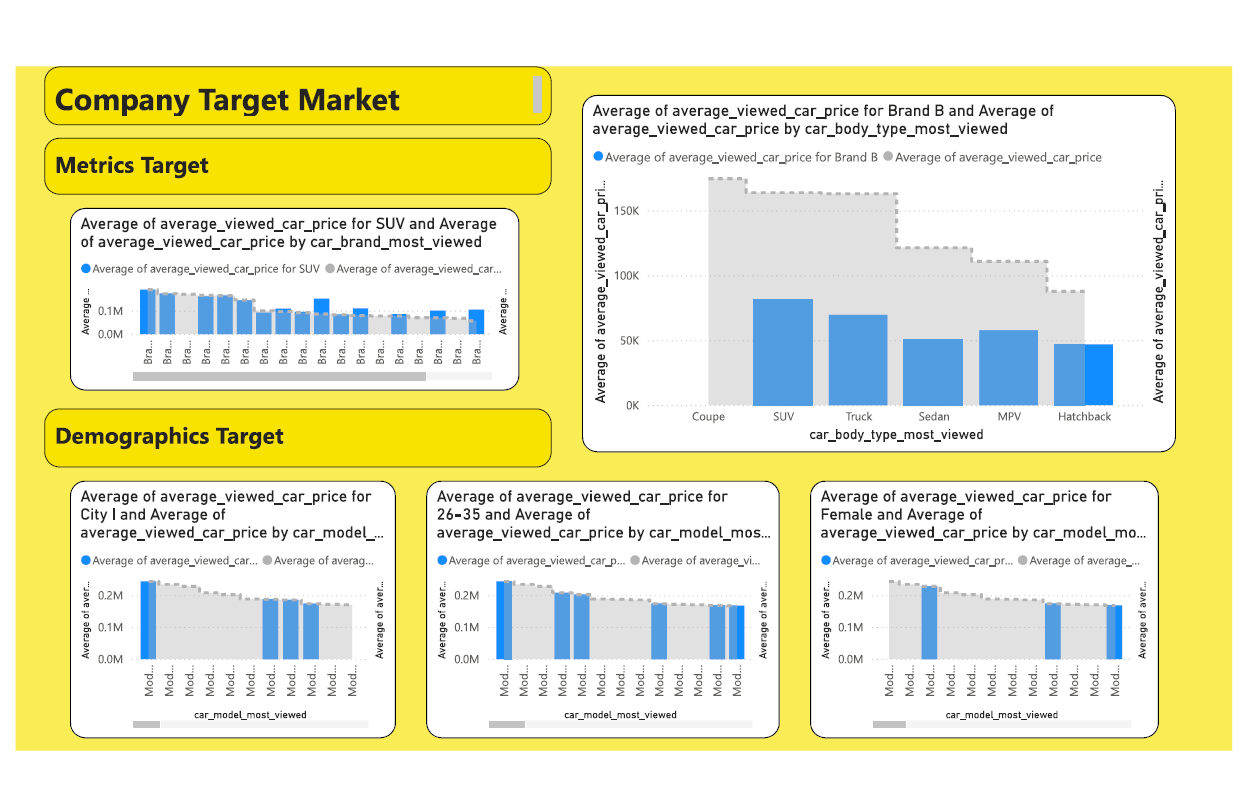

This screenshot's page, from the dashboard's own definition file:
{"tool":"powerbi","page":{"name":"Target_Market","canvas":[1280,720],"ordinal":1},"visuals":[{"type":"lineClusteredColumnComboChart","fields":{"Category":["Table 1 (customer_data).car_model_most_viewed"],"Y2":["Avg(Table 1 (customer_data).average_viewed_car_price)"],"Y":["FilteredEval(Avg(Table 1 (customer_data).average_viewed_car_price), [{Condition(expr)}])"]},"box":[57,436,343.5,270.5],"z":0},{"type":"lineClusteredColumnComboChart","fields":{"Category":["Table 1 (customer_data).car_model_most_viewed"],"Y2":["Avg(Table 1 (customer_data).average_viewed_car_price)"],"Y":["FilteredEval(Avg(Table 1 (customer_data).average_viewed_car_price), [{Condition(expr)}])"]},"box":[432.5,436,372,270.5],"z":1000},{"type":"lineClusteredColumnComboChart","fields":{"Category":["Table 1 (customer_data).car_model_most_viewed"],"Y2":["Avg(Table 1 (customer_data).average_viewed_car_price)"],"Y":["FilteredEval(Avg(Table 1 (customer_data).average_viewed_car_price), [{Condition(expr)}])"]},"box":[836.5,436,366.6,270.5],"z":2000},{"type":"textbox","box":[30.3,0,533.9,62.3],"z":3000},{"type":"textbox","box":[30.3,359.5,533.9,62.3],"z":4000},{"type":"textbox","box":[30.3,74.8,533.9,60.5],"z":5000},{"type":"lineClusteredColumnComboChart","fields":{"Category":["Table 1 (customer_data).car_brand_most_viewed"],"Y2":["Avg(Table 1 (customer_data).average_viewed_car_price)"],"Y":["FilteredEval(Avg(Table 1 (customer_data).average_viewed_car_price), [{Condition(expr)}])"]},"box":[56.9,149.3,473.6,192],"z":6000},{"type":"lineClusteredColumnComboChart","fields":{"Category":["Table 1 (customer_data).car_body_type_most_viewed"],"Y2":["Avg(Table 1 (customer_data).average_viewed_car_price)"],"Y":["FilteredEval(Avg(Table 1 (customer_data).average_viewed_car_price), [{Condition(expr)}])"]},"box":[596.2,30.3,624.7,375.5],"z":7000}]}

Visuals, with their boxes on the page's 1280x720 design canvas (x1, y1, x2, y2). These are canvas units, not pixel positions in the 1253x802 screenshot, which may show the page scaled, cropped or inside an application window:
lineClusteredColumnComboChart - Table 1 (customer_data).car_model_most_viewed x Avg(Table 1 (customer_data).average_viewed_car_price): BBox(57, 436, 400, 706)
lineClusteredColumnComboChart - Table 1 (customer_data).car_model_most_viewed x Avg(Table 1 (customer_data).average_viewed_car_price): BBox(432, 436, 804, 706)
lineClusteredColumnComboChart - Table 1 (customer_data).car_model_most_viewed x Avg(Table 1 (customer_data).average_viewed_car_price): BBox(836, 436, 1203, 706)
textbox: BBox(30, 0, 564, 62)
textbox: BBox(30, 360, 564, 422)
textbox: BBox(30, 75, 564, 135)
lineClusteredColumnComboChart - Table 1 (customer_data).car_brand_most_viewed x Avg(Table 1 (customer_data).average_viewed_car_price): BBox(57, 149, 530, 341)
lineClusteredColumnComboChart - Table 1 (customer_data).car_body_type_most_viewed x Avg(Table 1 (customer_data).average_viewed_car_price): BBox(596, 30, 1221, 406)
